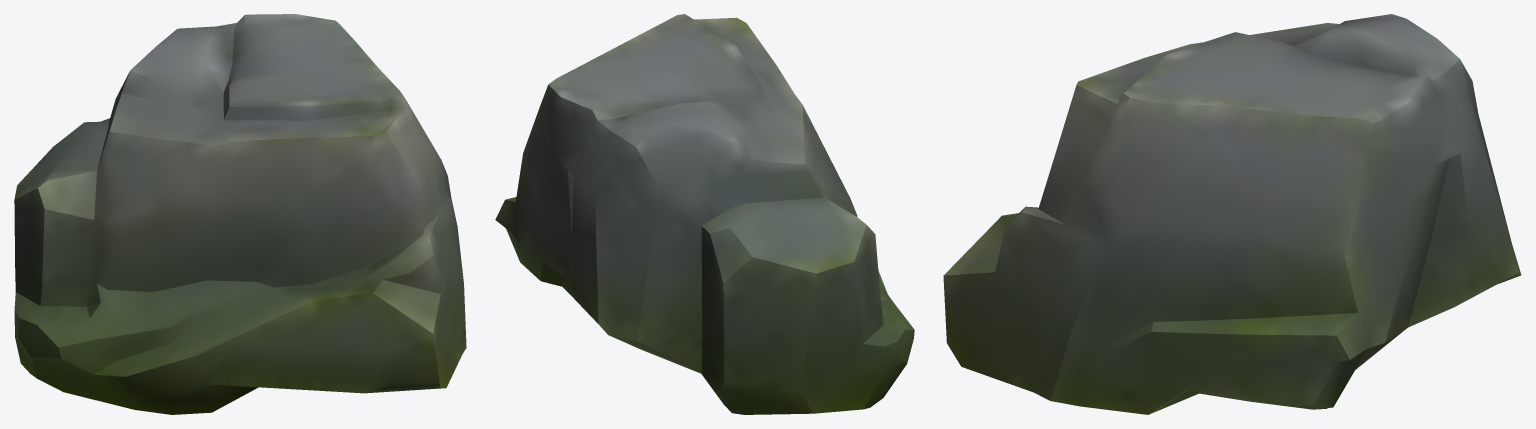
Rendered from n_rock.glb.
3 views of the same model, side by side, from view 1: azimuth 30°, elevation 25°; view 2: azimuth 150°, elevation 25°; view 3: azimuth 270°, elevation 25° (orthographic). The views are drawn at different scales.
Visible parts, largest first — view 1: Rock_Medium_3; view 2: Rock_Medium_3; view 3: Rock_Medium_3.
Part boxes in pixels (left/top/right/bottom): Rock_Medium_3: left=14, top=14, right=466, bottom=414; Rock_Medium_3: left=495, top=14, right=914, bottom=414; Rock_Medium_3: left=943, top=14, right=1521, bottom=414.
Size of the model in its own units: 3.42 by 2.32 by 3.48.
Materials: 1 (1 with a texture image).
